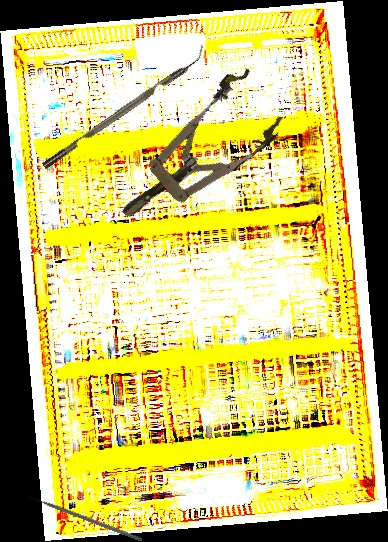Chopper: (36, 43, 211, 170)
Hook Surgical: (27, 493, 143, 542)
Speculum: (98, 61, 294, 245)
